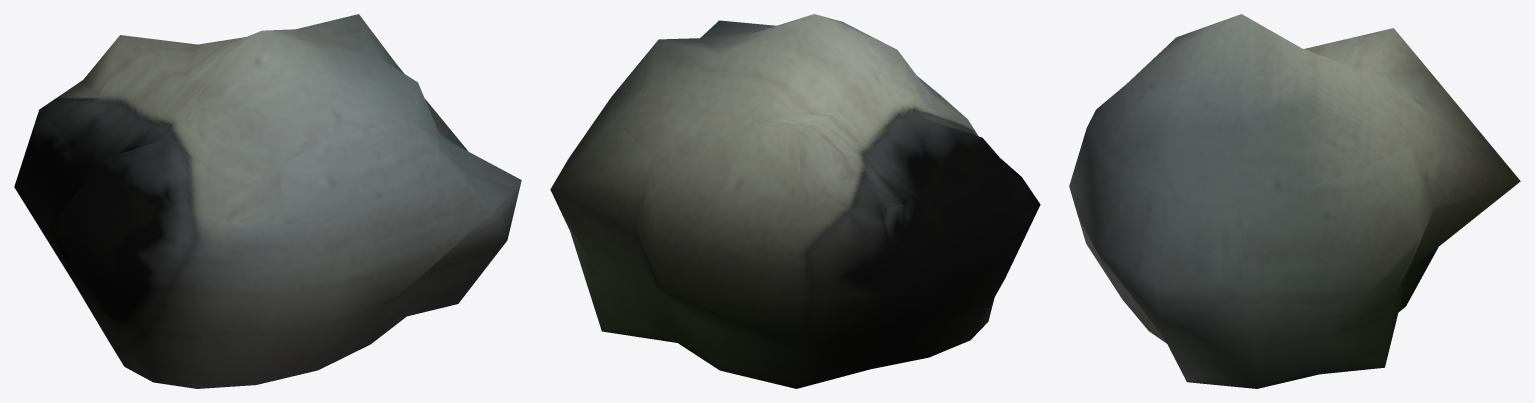
File: OpRock.FBX
3 views of the same model, side by side, from view 1: azimuth 30°, elevation 25°; view 2: azimuth 150°, elevation 25°; view 3: azimuth 270°, elevation 25° (orthographic). The views are drawn at different scales.
Visible parts, largest first — view 1: Rock; view 2: Rock; view 3: Rock.
Part boxes in pixels (x1=…): Rock: x1=14, y1=14, x2=521, y2=388; Rock: x1=550, y1=14, x2=1040, y2=388; Rock: x1=1069, y1=14, x2=1520, y2=388.
Bounding box in the file's own units: 828 × 762 × 538.
1 material, 1 textured.
